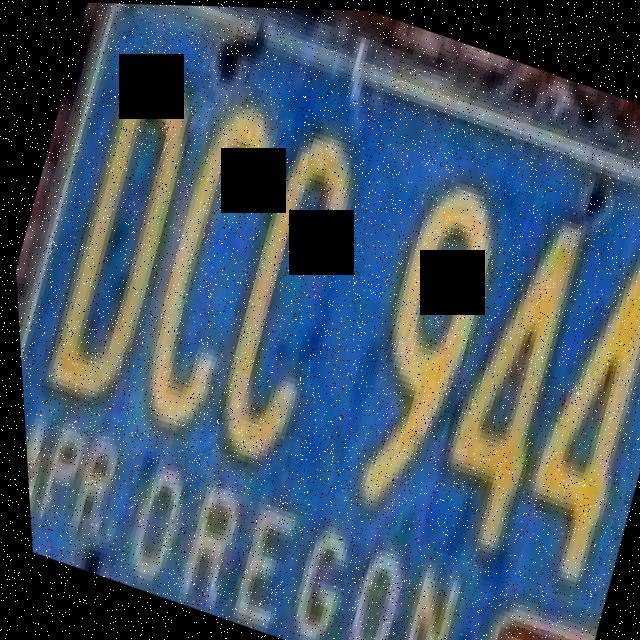4: (396, 183, 611, 573), (483, 212, 640, 599)
9: (313, 156, 526, 527)
C: (186, 102, 395, 477), (101, 79, 303, 454)
D: (20, 44, 227, 417)
